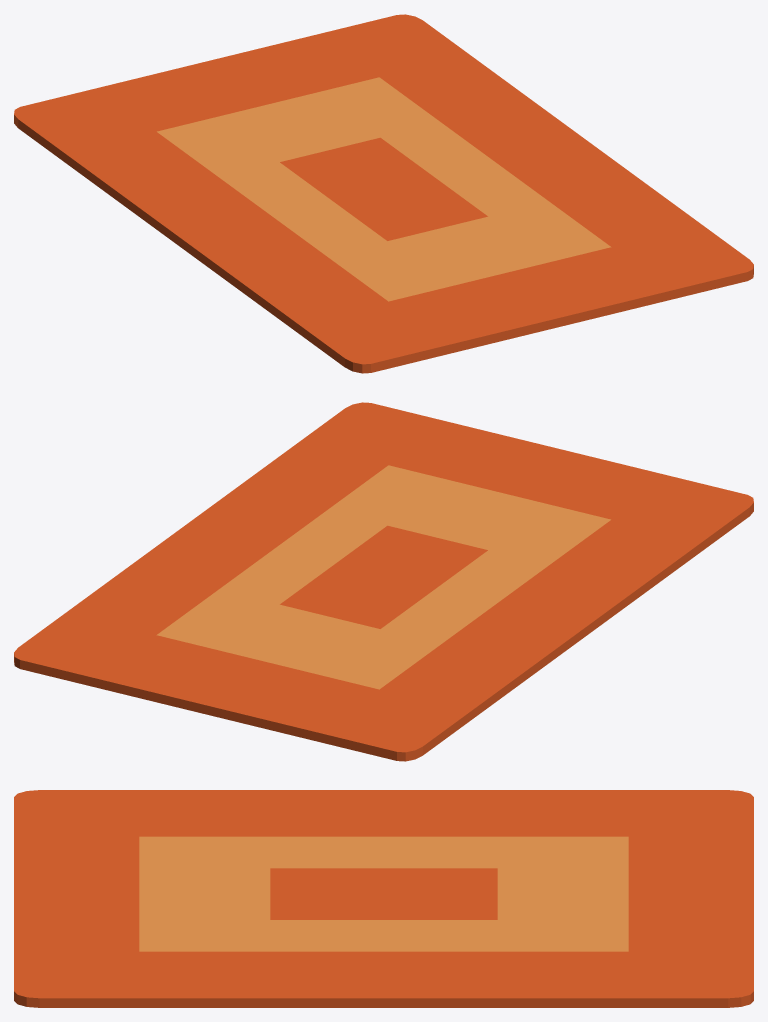
The model's file is Carpet_05.fbx.
3 views of the same model, one above another, from view 1: azimuth 30°, elevation 25°; view 2: azimuth 150°, elevation 25°; view 3: azimuth 270°, elevation 25° (orthographic). The views are drawn at different scales.
Parts seen in each view (by area): view 1: Carpet_05; view 2: Carpet_05; view 3: Carpet_05.
Part boxes in pixels (<box>): Carpet_05: <box>14,14,753,373</box>; Carpet_05: <box>14,402,753,761</box>; Carpet_05: <box>14,790,753,1007</box>.
Size of the model in its own units: 63.68 by 1.38 by 95.64.
